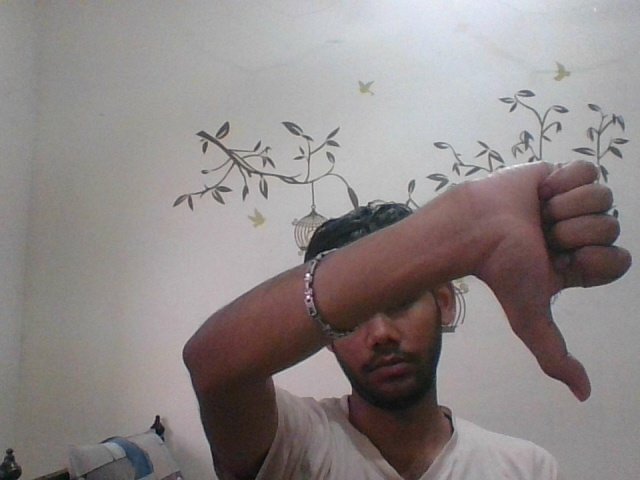No: (450, 153, 631, 401)
